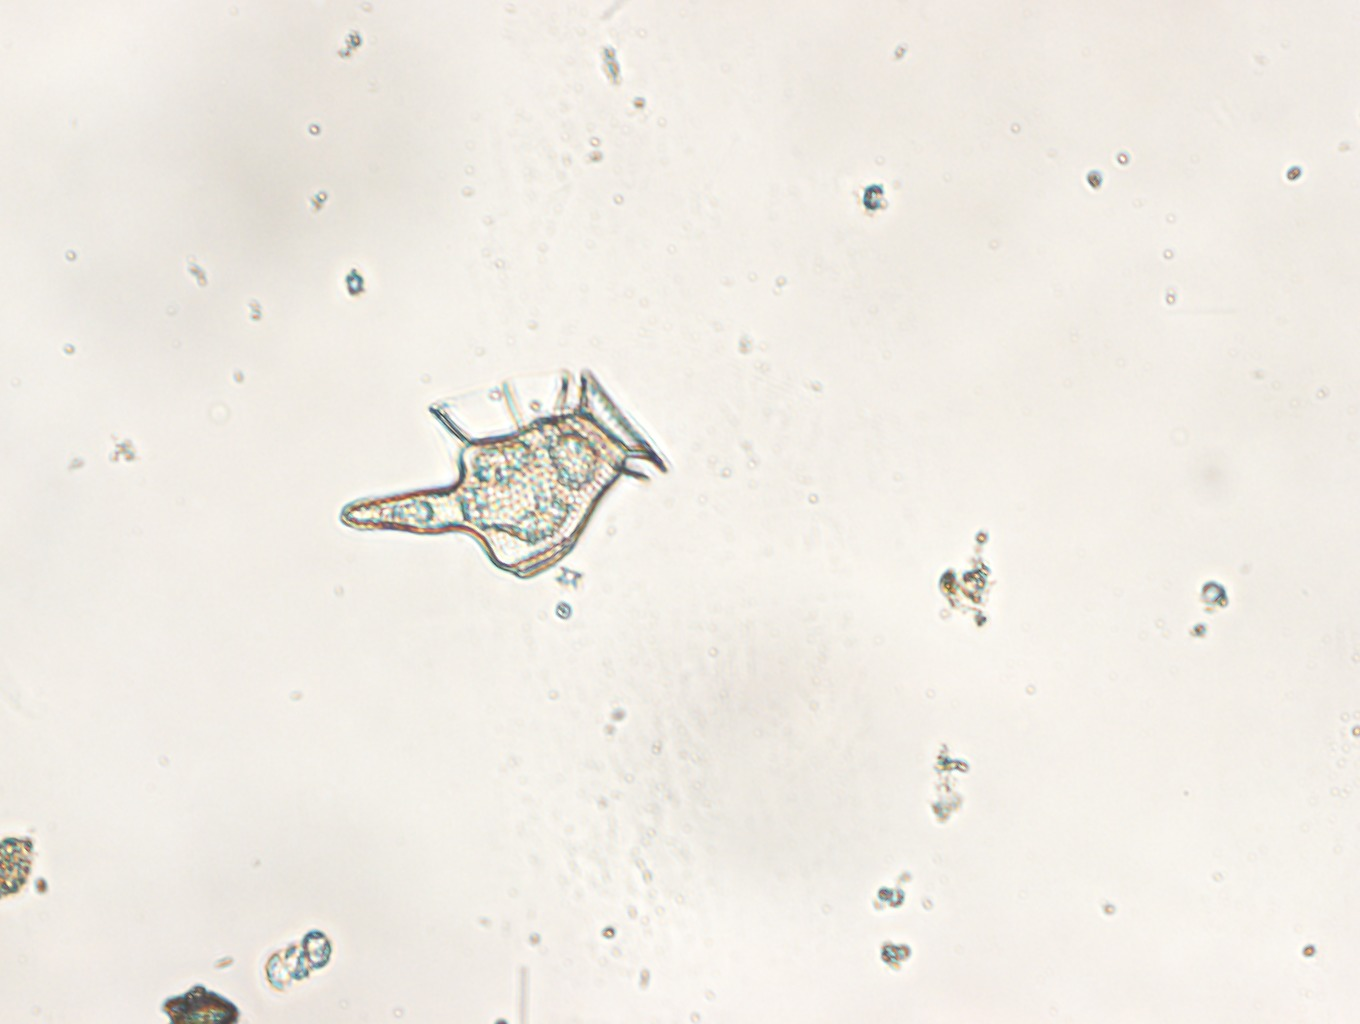dinophysis caudata: (341, 367, 668, 579)
